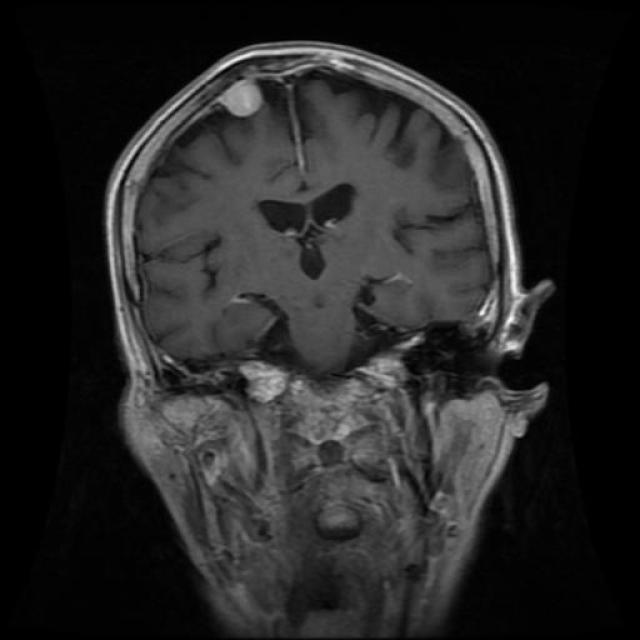meningioma: (221, 80, 261, 116)
